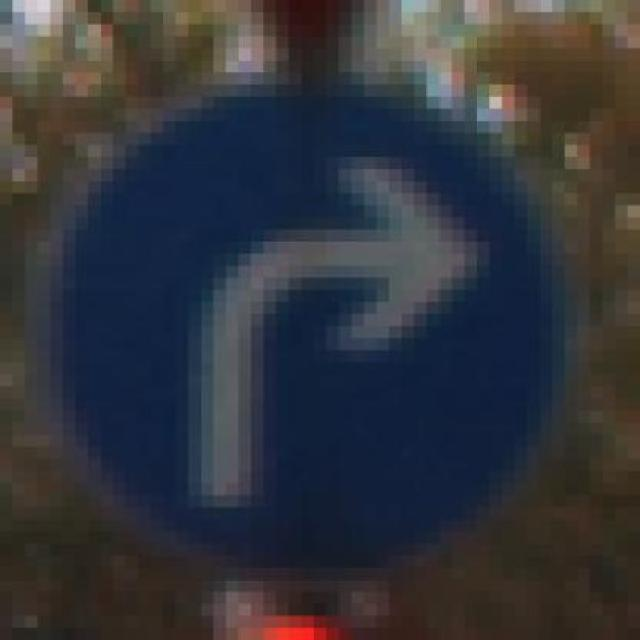Turn right ahead: (43, 45, 583, 600)
